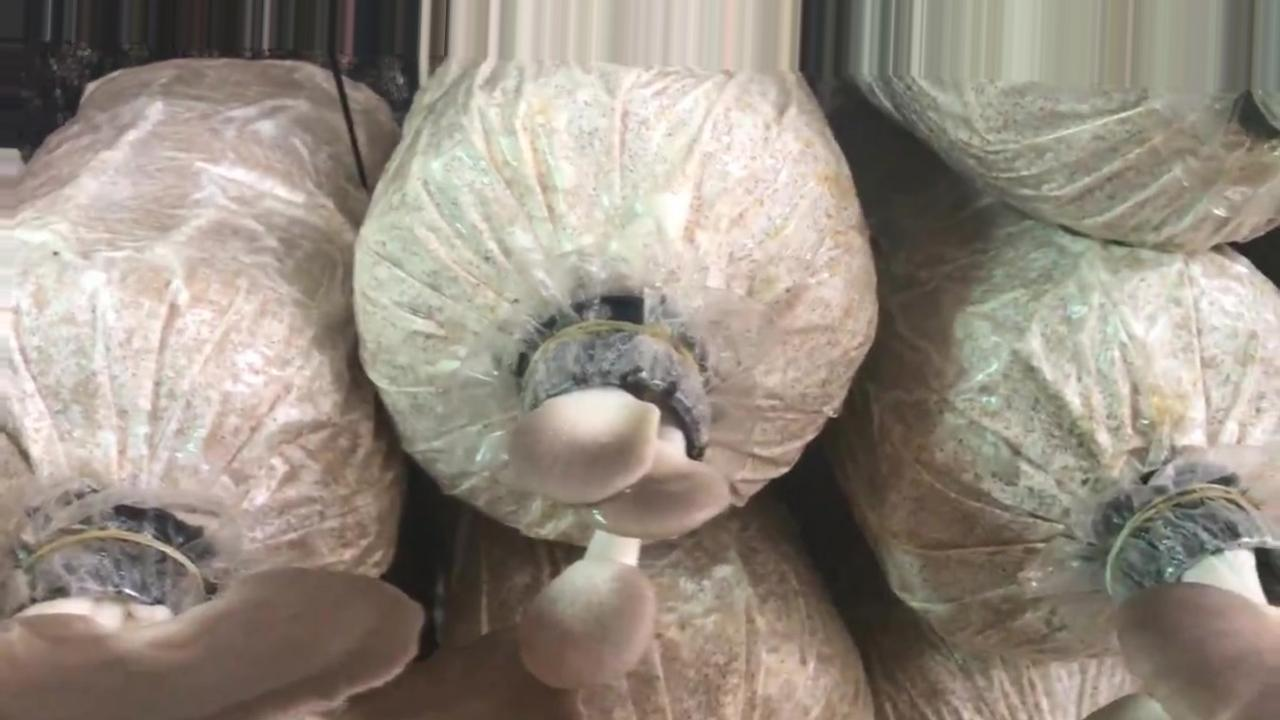nam: (1, 525, 570, 720), (510, 328, 724, 688), (1084, 488, 1280, 717)
